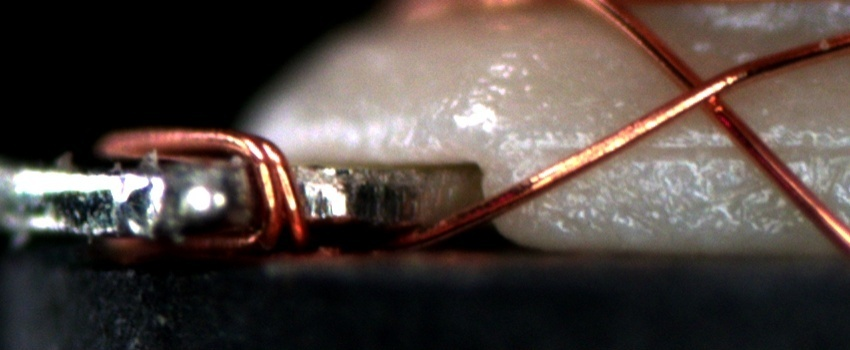CL: (661, 61, 737, 122)
DL: (533, 122, 850, 175)
TE: (104, 122, 314, 246)
